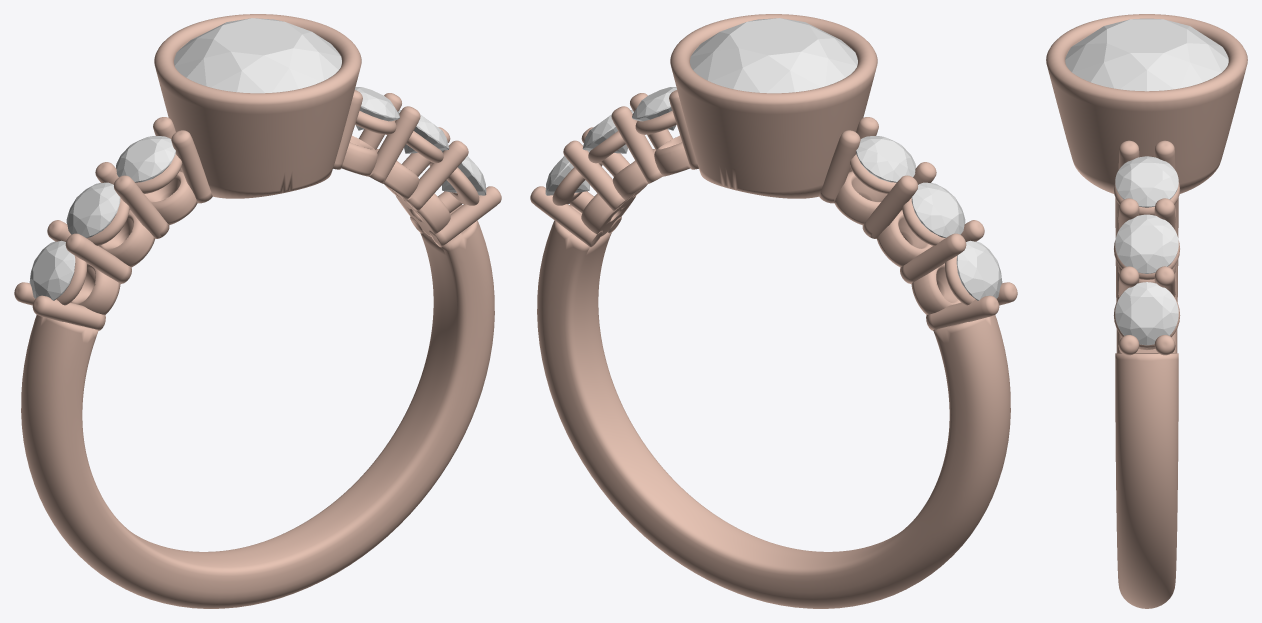
Rendered from diamond-round-rosegold-bezelset-straightband-3stone.glb.
3 views of the same model, side by side, from view 1: azimuth 30°, elevation 25°; view 2: azimuth 150°, elevation 25°; view 3: azimuth 270°, elevation 25° (orthographic). The views are drawn at different scales.
Visible parts, largest first — view 1: metal, stone, side.004, side.005, side.003, side, side.001, side.002; view 2: metal, stone, side.004, side.005, side.003, side, side.001, side.002; view 3: metal, stone, side.002, side.001, side.
Boxes of the visible parts, <box> form: metal: <box>14,14,501,608</box>; stone: <box>174,18,341,93</box>; side.004: <box>66,182,120,237</box>; side.005: <box>29,240,75,300</box>; side.003: <box>116,136,175,182</box>; side: <box>355,87,399,130</box>; side.001: <box>398,110,449,153</box>; side.002: <box>441,150,486,195</box>; metal: <box>530,14,1017,608</box>; stone: <box>690,18,857,93</box>; side.004: <box>911,182,965,237</box>; side.005: <box>956,240,1002,300</box>; side.003: <box>856,136,915,182</box>; side: <box>632,87,676,130</box>; side.001: <box>582,110,633,153</box>; side.002: <box>545,150,590,195</box>; metal: <box>1046,14,1247,608</box>; stone: <box>1065,18,1228,91</box>; side.002: <box>1115,282,1178,345</box>; side.001: <box>1115,214,1178,273</box>; side: <box>1115,156,1178,207</box>.
Size of the model in its own units: 20.58 by 23.81 by 7.94.
